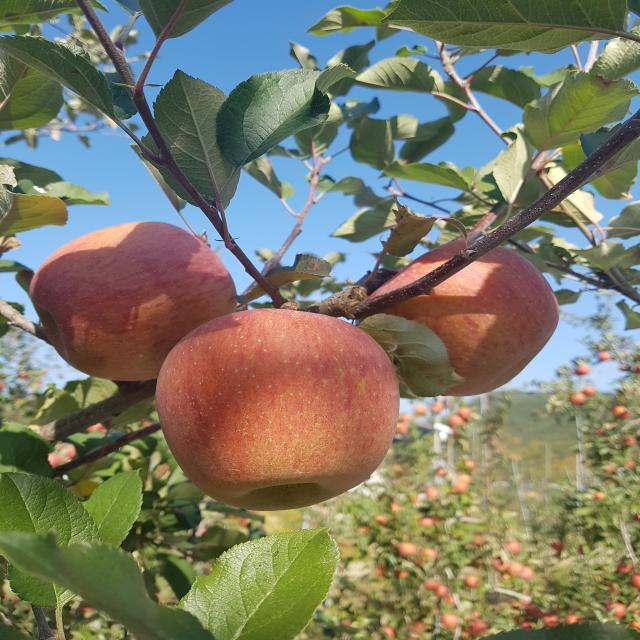fresh: (146, 299, 412, 516), (23, 216, 243, 392)
